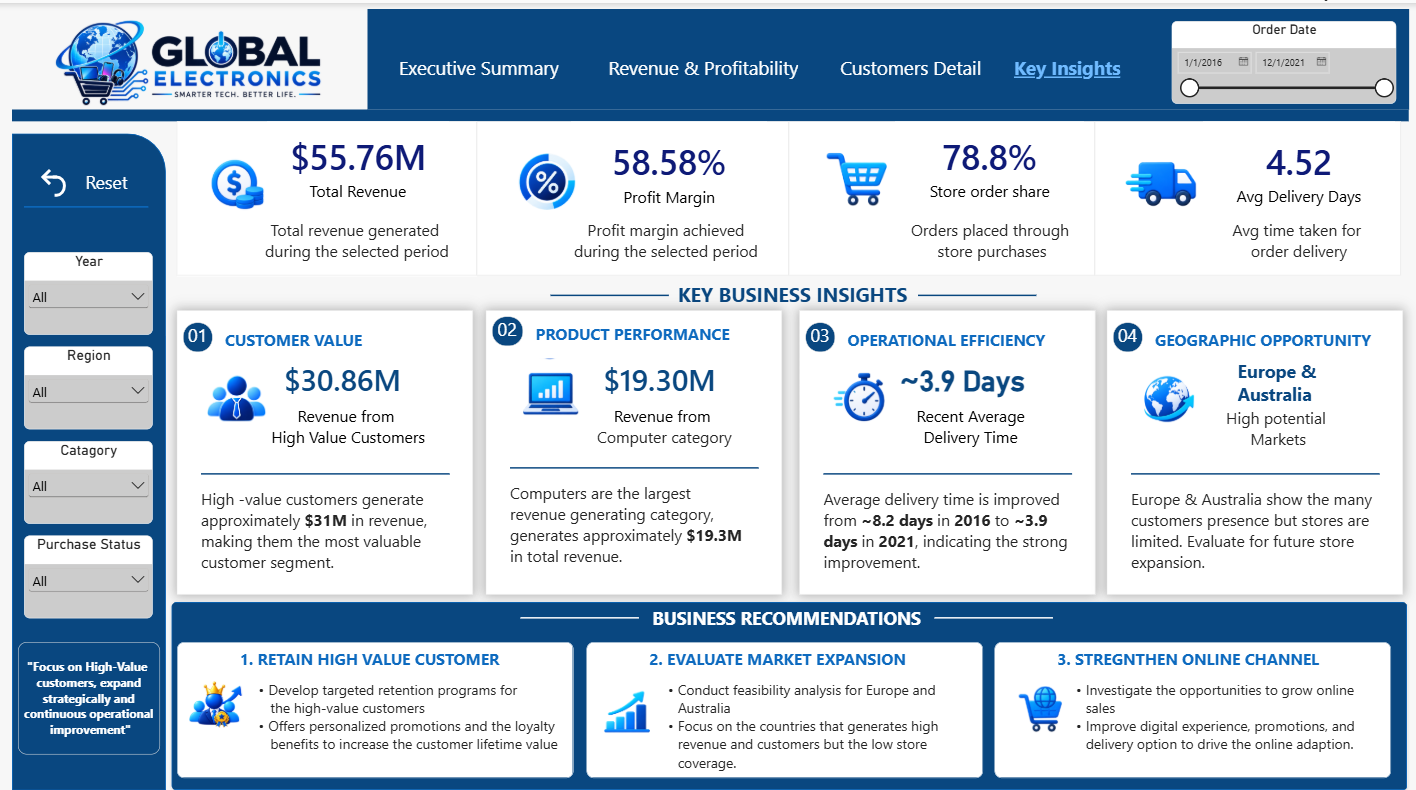

The dashboard page shown, as its layout file describes it:
{"tool":"powerbi","page":{"name":"Key Insights","canvas":[1920,1080],"ordinal":3},"visuals":[{"type":"actionButton","box":[528,48,272,80],"z":0,"group":"g22"},{"type":"shape","box":[240,160,405.6,208],"z":0,"group":"g1"},{"type":"group","id":"g1","title":"Group 2","box":[240,160,405.6,208],"z":0,"group":"g12"},{"type":"group","id":"g2","title":"Group 2","box":[645.6,160,421.5,208],"z":0,"group":"g14"},{"type":"shape","box":[645.6,160,421.5,208],"z":0,"group":"g2"},{"type":"shape","box":[1067,160,413.5,208],"z":0,"group":"g10"},{"type":"shape","box":[1480.5,160,413.4,208],"z":0,"group":"g16"},{"type":"shape","box":[16,176,208,888],"z":0},{"type":"shape","box":[240,416,400,384],"z":0,"group":"g3"},{"type":"group","id":"g3","title":"Group 2","box":[240,416,400,384],"z":0,"group":"g9"},{"type":"group","id":"g4","title":"Group 2","box":[656,416,400,384],"z":0,"group":"g11"},{"type":"shape","box":[656,416,400,384],"z":0,"group":"g4"},{"type":"shape","box":[1080,416,400,384],"z":0,"group":"g5"},{"type":"group","id":"g5","title":"Group 2","box":[1080,416,400,384],"z":0,"group":"g13"},{"type":"shape","box":[1496,416,400,384],"z":0,"group":"g6"},{"type":"group","id":"g6","title":"Group 2","box":[1496,416,400,384],"z":0,"group":"g15"},{"type":"shape","box":[240,864,536,184],"z":0,"group":"g18"},{"type":"shape","box":[792,864,536,184],"z":0,"group":"g19"},{"type":"shape","box":[1344,864,536,184],"z":0,"group":"g20"},{"type":"actionButton","box":[800,48,304,80],"z":1000,"group":"g22"},{"type":"card","fields":{"Values":["Sales.Total Revenue"]},"box":[361.7,160,245.7,123.4],"z":1000,"group":"g1"},{"type":"card","fields":{"Values":["Sales.Profit Margin"]},"box":[773.4,160,263.7,137.8],"z":1000,"group":"g2"},{"type":"card","fields":{"Values":["Sales.Store order shares"]},"box":[1210.1,160,254.5,123.4],"z":1000,"group":"g10"},{"type":"card","fields":{"Values":["Sales.Avg of Delivery Days"]},"box":[1626.4,160,259.4,136],"z":1000,"group":"g16"},{"type":"image","box":[269.9,184,92.1,120],"z":1000,"group":"g12"},{"type":"image","box":[694.1,190.9,89.2,100.3],"z":1000,"group":"g14"},{"type":"actionButton","box":[40,216,144,48],"z":1000},{"type":"card","fields":{"Values":["Sales.Revenue from high value customer"]},"box":[352,464,224,91.1],"z":1000,"group":"g3"},{"type":"card","fields":{"Values":["Sales.TOP PRODUCT REVE."]},"box":[772.7,464,233.3,91.1],"z":1000,"group":"g4"},{"type":"image","box":[696,480,88,88],"z":1000,"group":"g11"},{"type":"image","box":[280,488,80,88],"z":1000,"group":"g9"},{"type":"image","box":[1120,488,80,88],"z":1000,"group":"g13"},{"type":"image","box":[1536,488,80,88],"z":1000,"group":"g15"},{"type":"textbox","box":[336,896,432,144],"z":1000,"group":"g18"},{"type":"textbox","box":[888,896,432,176],"z":1000,"group":"g19"},{"type":"textbox","box":[1440,896,432,144],"z":1000,"group":"g20"},{"type":"actionButton","box":[1104,48,256,80],"z":2000,"group":"g22"},{"type":"image","box":[1106.8,175.4,95.4,115.7],"z":2000,"group":"g10"},{"type":"image","box":[1521,183.4,97.3,115.7],"z":2000,"group":"g16"},{"type":"shape","box":[32,264,168,24],"z":2000},{"type":"textbox","box":[664.3,424,41.7,40],"z":2000,"group":"g11"},{"type":"textbox","box":[248,432,40,40],"z":2000,"group":"g9"},{"type":"textbox","box":[1088,432,40,40],"z":2000,"group":"g13"},{"type":"textbox","box":[1504,432,40,40],"z":2000,"group":"g15"},{"type":"actionButton","box":[1360,48,176,80],"z":3000,"group":"g22"},{"type":"textbox","title":"qqqqq","box":[343.9,292.7,279.7,74.7],"z":3000,"group":"g1"},{"type":"textbox","title":"qqqqq","box":[749.5,292.7,303.6,74.7],"z":3000,"group":"g2"},{"type":"textbox","title":"qqqqq","box":[1194.8,292.7,287.6,74.7],"z":3000,"group":"g10"},{"type":"textbox","title":"qqqqq","box":[1608.3,292.7,295.6,74.7],"z":3000,"group":"g16"},{"type":"group","id":"g7","title":"Group 7","box":[32,336,160,496],"z":3000},{"type":"textbox","box":[722.7,432,333.3,32],"z":3000,"group":"g11"},{"type":"textbox","box":[304,440,320,32],"z":3000,"group":"g9"},{"type":"textbox","box":[1144,440,320,32],"z":3000,"group":"g13"},{"type":"textbox","box":[1560,440,320,32],"z":3000,"group":"g15"},{"type":"textbox","title":"qqqqq","box":[336,544,272,64],"z":3000,"group":"g3"},{"type":"textbox","title":"qqqqq","box":[756,544,283.3,64],"z":3000,"group":"g4"},{"type":"textbox","title":"qqqqq","box":[1176,544,272,64],"z":3000,"group":"g5"},{"type":"textbox","title":"qqqqq","box":[1592,546.7,272,65.4],"z":3000,"group":"g6"},{"type":"image","box":[16,16,480,128],"z":4000},{"type":"shape","box":[688,616,336,24],"z":4000,"group":"g11"},{"type":"shape","box":[272,624,336,24],"z":4000,"group":"g9"},{"type":"shape","box":[1112,624,336,24],"z":4000,"group":"g13"},{"type":"shape","box":[1528,624,336,24],"z":4000,"group":"g15"},{"type":"shape","box":[16,144,1888,16],"z":5000},{"type":"textbox","box":[689.3,648,350,144],"z":5000,"group":"g11"},{"type":"textbox","box":[272,656,336,144],"z":5000,"group":"g9"},{"type":"textbox","box":[1112,656,336,144],"z":5000,"group":"g13"},{"type":"textbox","box":[1528,656,336,128],"z":5000,"group":"g15"},{"type":"shape","box":[496,8,1408,136],"z":6000},{"type":"slicer","title":"Order Date","fields":{"Values":["calendar.month"]},"box":[1584,24,304,112],"z":7000},{"type":"group","id":"g8","title":"Group 6","box":[240,160,1664,208],"z":8000},{"type":"slicer","title":"Year","fields":{"Values":["calendar.Year"]},"box":[32,336,174.1,112],"z":9000,"group":"g7"},{"type":"textbox","box":[240,376,1664,40],"z":9000},{"type":"shape","box":[1240,384,160,24],"z":10000},{"type":"shape","box":[744,384,160,24],"z":11000},{"type":"group","id":"g9","title":"Group 1","box":[240,416,400,384],"z":12000},{"type":"slicer","title":"Region","fields":{"Values":["Customers.Continent"]},"box":[32,464,174.1,112],"z":12000,"group":"g7"},{"type":"group","id":"g10","title":"Group 2","box":[1067,160,415.5,208],"z":13000,"group":"g8"},{"type":"group","id":"g11","title":"Group 1","box":[656,416,400,384],"z":13000},{"type":"group","id":"g12","title":"Group 4","box":[240,160,416,208],"z":14000,"group":"g8"},{"type":"group","id":"g13","title":"Group 1","box":[1080,416,400,384],"z":14000},{"type":"group","id":"g14","title":"Group 5","box":[645.6,160,421.5,208],"z":15000,"group":"g8"},{"type":"group","id":"g15","title":"Group 1","box":[1496,416,400,384],"z":15000},{"type":"slicer","title":"Purchase Status","fields":{"Values":["Sales.Purchase Status"]},"box":[32,720,174.1,112],"z":15000,"group":"g7"},{"type":"group","id":"g16","title":"Group 2","box":[1480.5,160,423.5,208],"z":16000,"group":"g8"},{"type":"textbox","box":[1216,488,176,64],"z":16000},{"type":"textbox","box":[1672,480,112,64],"z":17000},{"type":"shape","box":[232,808,1672,256],"z":18000},{"type":"textbox","box":[24,864,192,152],"z":19000},{"type":"group","id":"g17","title":"Group 9","box":[240,864,552,192],"z":20000},{"type":"group","id":"g18","title":"Group 3","box":[240,864,536,184],"z":20000,"group":"g17"},{"type":"group","id":"g19","title":"Group 3","box":[792,864,536,208],"z":20000,"group":"g21"},{"type":"group","id":"g20","title":"Group 3","box":[1344,864,528,192],"z":20000,"group":"g23"},{"type":"group","id":"g21","title":"Group 9","box":[792,864,528,216],"z":21000},{"type":"image","box":[1368,912,80,88],"z":21000,"group":"g23"},{"type":"group","id":"g22","title":"Group 8","box":[528,48,1008,80],"z":22000},{"type":"textbox","box":[248,872,512,32],"z":22001,"group":"g17"},{"type":"textbox","box":[800,872,512,32],"z":22001,"group":"g21"},{"type":"textbox","box":[1352,872,512,32],"z":22001,"group":"g23"},{"type":"slicer","title":"Catagory","fields":{"Values":["Products.Category"]},"box":[32,592,174.1,112],"z":23000,"group":"g7"},{"type":"group","id":"g23","title":"Group 10","box":[1344,864,528,192],"z":23000},{"type":"textbox","box":[240,816,1648,32],"z":24000},{"type":"shape","box":[1264,816,160,32],"z":25000},{"type":"shape","box":[704,816,160,32],"z":26000},{"type":"image","box":[808,912,72,96],"z":27000},{"type":"image","box":[256,904,72,88],"z":28000}]}

Visuals, with their boxes in screenshot pixels (x1, y1, x2, y2), scaled from the page's 1920x1080 canvas onto the 1416x790 screenshot:
actionButton: 389,35,590,94
shape: 177,117,476,269
"Group 2" group: 177,117,476,269
"Group 2" group: 476,117,787,269
shape: 476,117,787,269
shape: 787,117,1092,269
shape: 1092,117,1397,269
shape: 12,129,165,778
shape: 177,304,472,585
"Group 2" group: 177,304,472,585
"Group 2" group: 484,304,779,585
shape: 484,304,779,585
shape: 796,304,1092,585
"Group 2" group: 796,304,1092,585
shape: 1103,304,1398,585
"Group 2" group: 1103,304,1398,585
shape: 177,632,572,767
shape: 584,632,979,767
shape: 991,632,1386,767
actionButton: 590,35,814,94
card - Sales.Total Revenue: 267,117,448,207
card - Sales.Profit Margin: 570,117,765,218
card - Sales.Store order shares: 892,117,1080,207
card - Sales.Avg of Delivery Days: 1199,117,1391,217
image: 199,135,267,222
image: 512,140,578,213
actionButton: 30,158,136,193
card - Sales.Revenue from high value customer: 260,339,425,406
card - Sales.TOP PRODUCT REVE.: 570,339,742,406
image: 513,351,578,415
image: 206,357,266,421
image: 826,357,885,421
image: 1133,357,1192,421
textbox: 248,655,566,761
textbox: 655,655,974,784
textbox: 1062,655,1381,761
actionButton: 814,35,1003,94
image: 816,128,887,213
image: 1122,134,1193,219
shape: 24,193,148,211
textbox: 490,310,521,339
textbox: 183,316,212,345
textbox: 802,316,832,345
textbox: 1109,316,1139,345
actionButton: 1003,35,1133,94
"qqqqq" textbox: 254,214,460,269
"qqqqq" textbox: 553,214,777,269
"qqqqq" textbox: 881,214,1093,269
"qqqqq" textbox: 1186,214,1404,269
"Group 7" group: 24,246,142,609
textbox: 533,316,779,339
textbox: 224,322,460,345
textbox: 844,322,1080,345
textbox: 1150,322,1386,345
"qqqqq" textbox: 248,398,448,445
"qqqqq" textbox: 558,398,766,445
"qqqqq" textbox: 867,398,1068,445
"qqqqq" textbox: 1174,400,1375,448
image: 12,12,366,105
shape: 507,451,755,468
shape: 201,456,448,474
shape: 820,456,1068,474
shape: 1127,456,1375,474
shape: 12,105,1404,117
textbox: 508,474,766,579
textbox: 201,480,448,585
textbox: 820,480,1068,585
textbox: 1127,480,1375,573
shape: 366,6,1404,105
"Order Date" slicer: 1168,18,1392,99
"Group 6" group: 177,117,1404,269
"Year" slicer: 24,246,152,328
textbox: 177,275,1404,304
shape: 914,281,1032,298
shape: 549,281,667,298
"Group 1" group: 177,304,472,585
"Region" slicer: 24,339,152,421
"Group 2" group: 787,117,1093,269
"Group 1" group: 484,304,779,585
"Group 4" group: 177,117,484,269
"Group 1" group: 796,304,1092,585
"Group 5" group: 476,117,787,269
"Group 1" group: 1103,304,1398,585
"Purchase Status" slicer: 24,527,152,609
"Group 2" group: 1092,117,1404,269
textbox: 897,357,1027,404
textbox: 1233,351,1316,398
shape: 171,591,1404,778
textbox: 18,632,159,743
"Group 9" group: 177,632,584,772
"Group 3" group: 177,632,572,767
"Group 3" group: 584,632,979,784
"Group 3" group: 991,632,1381,772
"Group 9" group: 584,632,974,789
image: 1009,667,1068,731
"Group 8" group: 389,35,1133,94
textbox: 183,638,560,661
textbox: 590,638,968,661
textbox: 997,638,1375,661
"Catagory" slicer: 24,433,152,515
"Group 10" group: 991,632,1381,772
textbox: 177,597,1392,620
shape: 932,597,1050,620
shape: 519,597,637,620
image: 596,667,649,737
image: 189,661,242,726
